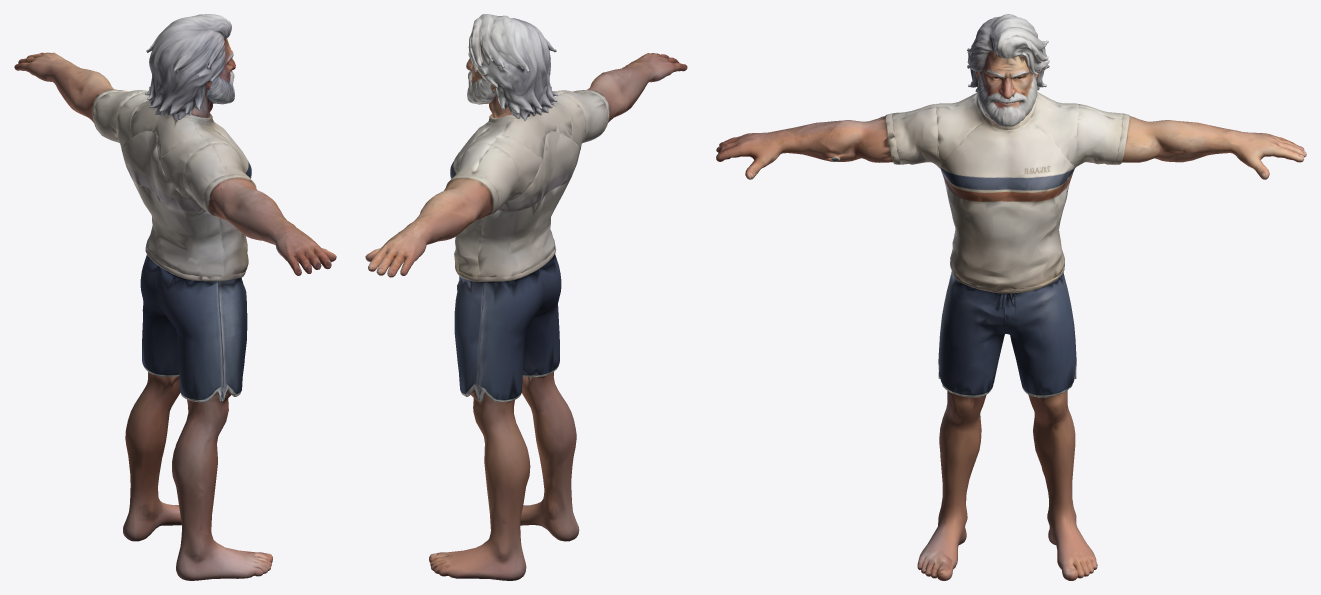
Rendered from the-legend.glb.
3 views of the same model, side by side, from view 1: azimuth 30°, elevation 25°; view 2: azimuth 150°, elevation 25°; view 3: azimuth 270°, elevation 25° (orthographic).
Visible parts, largest first — view 1: the-legend; view 2: the-legend; view 3: the-legend.
Part boxes in pixels (x1,y1,x2,y2): the-legend: (14, 14, 336, 580); the-legend: (365, 14, 687, 580); the-legend: (716, 14, 1306, 580).
Bounding box in the file's own units: 0.1865 × 0.9783 × 0.9659.
1 material, 1 textured.
